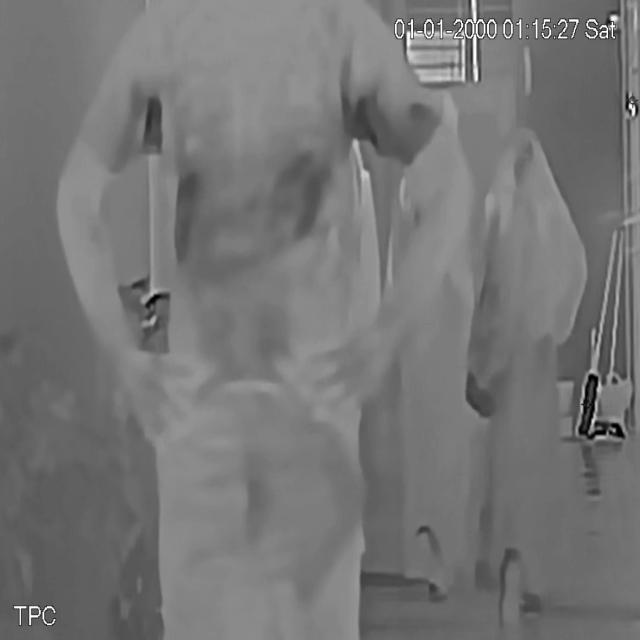Weapon: (296, 426, 375, 600)
